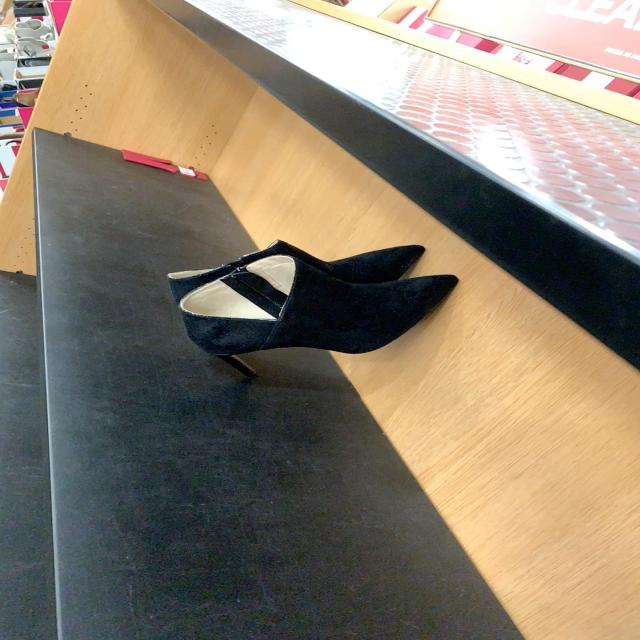shoe: (188, 259, 462, 355)
